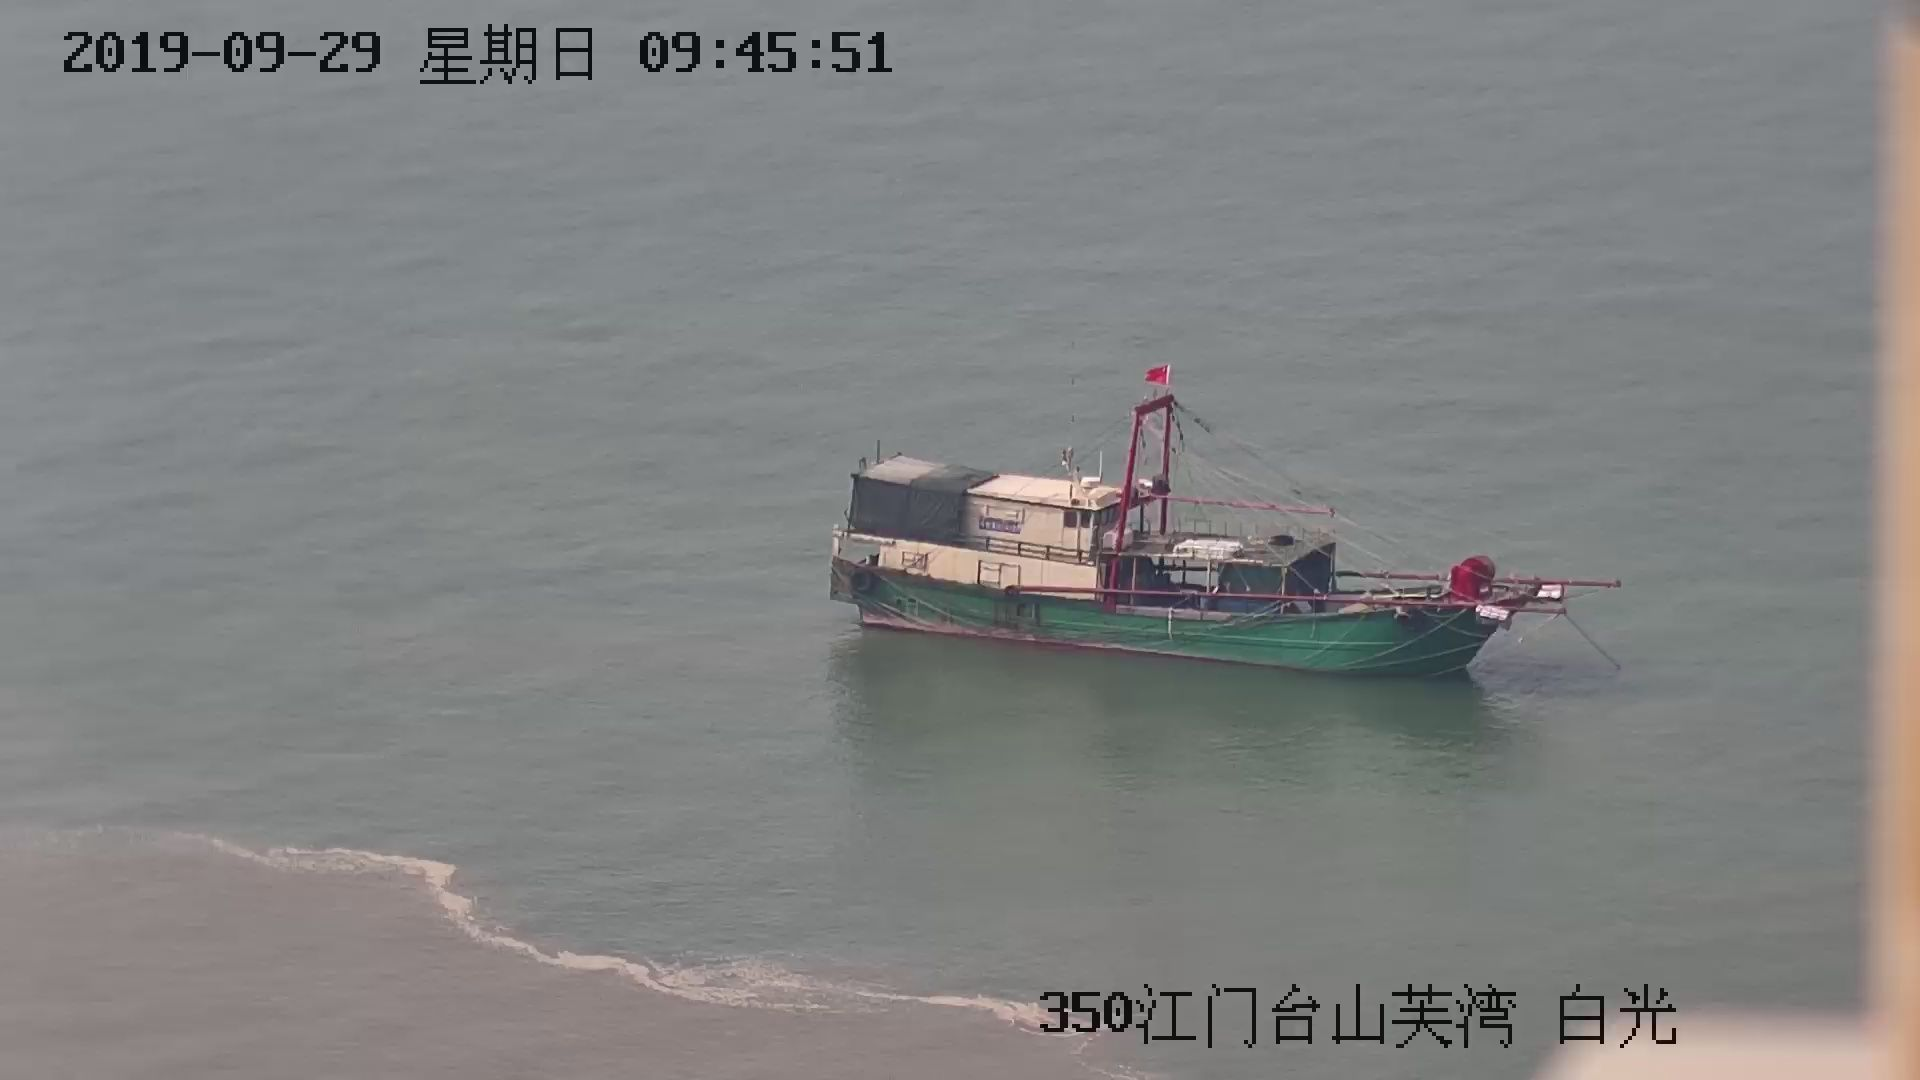ship: (822, 349, 1611, 690)
